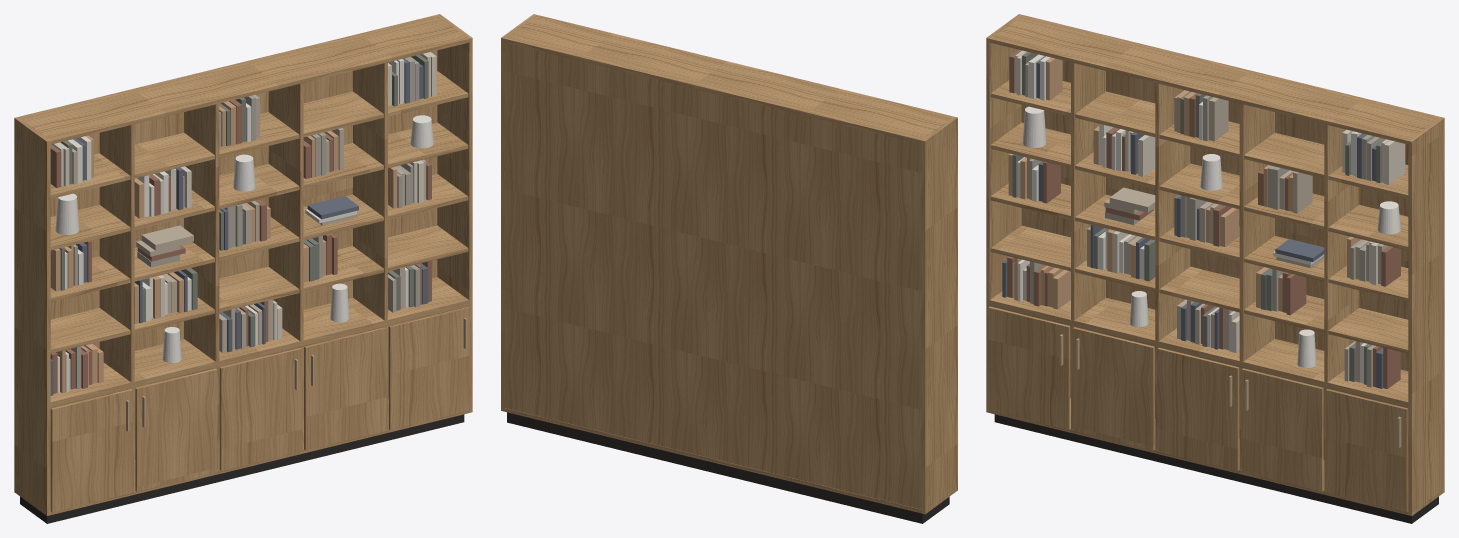
Rendered from libreria-300x260.glb.
3 views of the same model, side by side, from view 1: azimuth 30°, elevation 25°; view 2: azimuth 150°, elevation 25°; view 3: azimuth 330°, elevation 25° (orthographic).
Parts seen in each view (by area): view 1: finitura, schienale, libro6, libro0, libro3, libro7, zoccolo, libro5, libro4, ceramica, libro1, libro2 (+1 smaller); view 2: schienale, finitura, zoccolo; view 3: finitura, schienale, libro3, libro0, libro6, libro7, libro2, libro5, zoccolo, libro4, ceramica, libro1 (+1 smaller).
Boxes of the visible parts, bbox=[...] form: finitura: bbox=[14, 14, 472, 515]; schienale: bbox=[50, 50, 437, 459]; libro6: bbox=[50, 101, 397, 393]; libro0: bbox=[72, 94, 426, 352]; libro3: bbox=[50, 100, 431, 393]; libro7: bbox=[71, 57, 420, 388]; zoccolo: bbox=[20, 414, 464, 523]; libro5: bbox=[50, 58, 428, 395]; libro4: bbox=[57, 59, 408, 392]; ceramica: bbox=[55, 115, 433, 362]; libro1: bbox=[59, 54, 428, 347]; libro2: bbox=[52, 52, 436, 389]; schienale: bbox=[504, 42, 921, 509]; finitura: bbox=[501, 14, 957, 514]; zoccolo: bbox=[507, 412, 949, 523]; finitura: bbox=[986, 14, 1444, 515]; schienale: bbox=[1021, 60, 1408, 459]; libro3: bbox=[1007, 49, 1400, 389]; libro0: bbox=[1025, 62, 1388, 382]; libro6: bbox=[1008, 57, 1360, 311]; libro7: bbox=[1029, 90, 1384, 387]; libro2: bbox=[1015, 50, 1405, 353]; libro5: bbox=[1002, 56, 1383, 388]; zoccolo: bbox=[994, 414, 1438, 523]; libro4: bbox=[1013, 54, 1367, 383]; ceramica: bbox=[1022, 106, 1400, 367]; libro1: bbox=[1012, 51, 1385, 384].
Bounding box in the file's own units: 3 × 2.6 × 0.445.
Materials: 14 (2 with a texture image).
